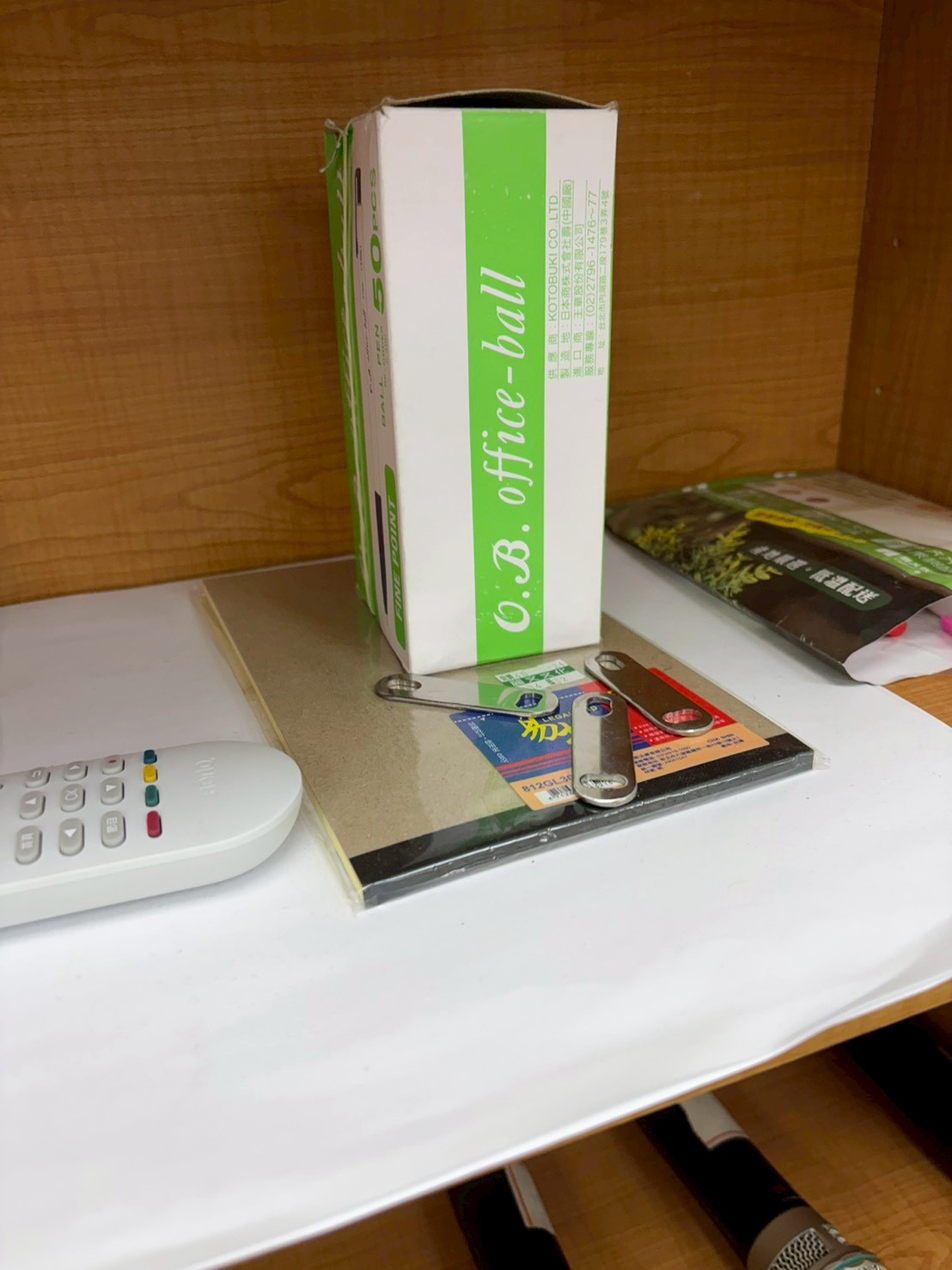Fe: (581, 638, 712, 742), (361, 655, 556, 717), (566, 677, 642, 811), (569, 692, 635, 818), (579, 658, 634, 809), (373, 704, 410, 891)
